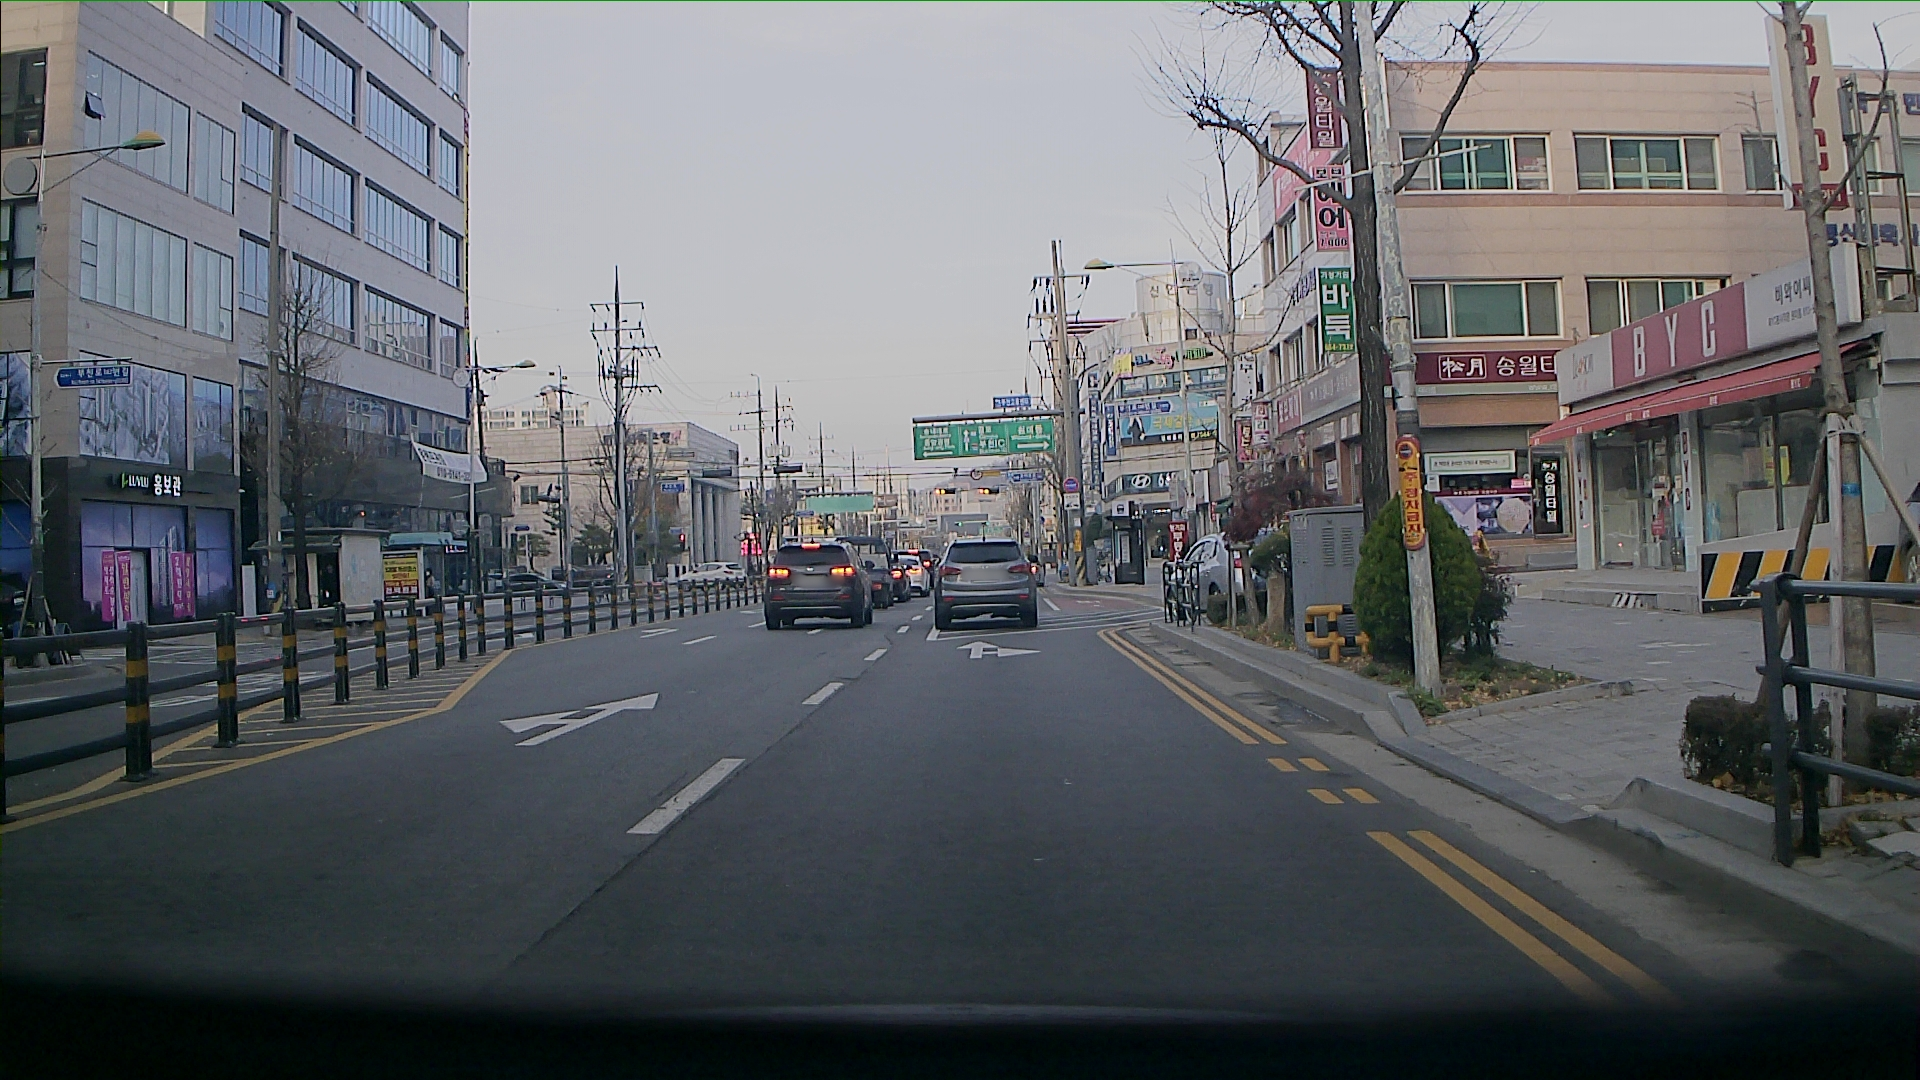trafficLight: (928, 485, 1004, 497)
